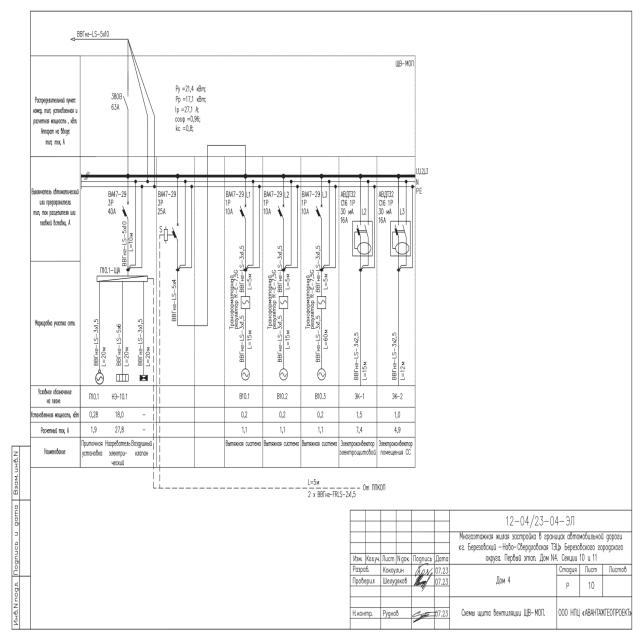-: (378, 190, 395, 225), (339, 190, 356, 224), (301, 190, 321, 216), (107, 188, 127, 214), (225, 190, 245, 216), (263, 190, 283, 216), (157, 190, 177, 216), (110, 92, 124, 112)
ITU: (164, 228, 168, 242)
QF: (170, 222, 180, 244), (122, 200, 132, 222), (314, 202, 324, 222), (238, 200, 248, 220), (276, 202, 286, 222)
QFD: (391, 220, 412, 258), (352, 220, 373, 258)
QS: (122, 92, 130, 112)
